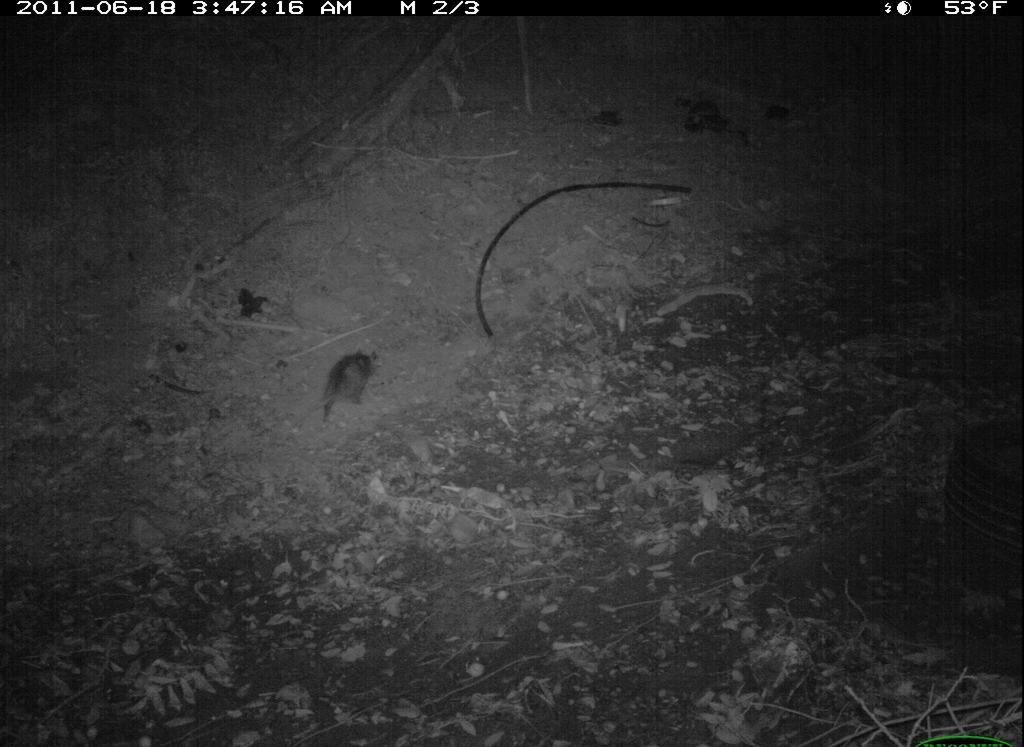opossum: (317, 324, 408, 432)
